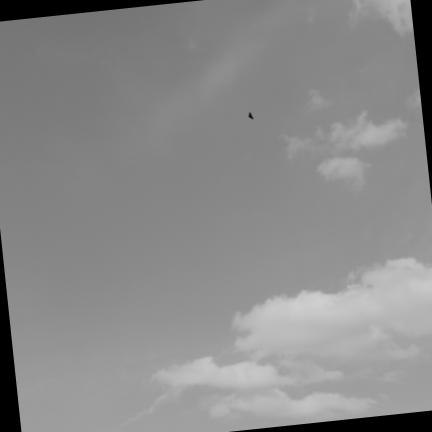Shahed: (248, 112, 255, 120)
